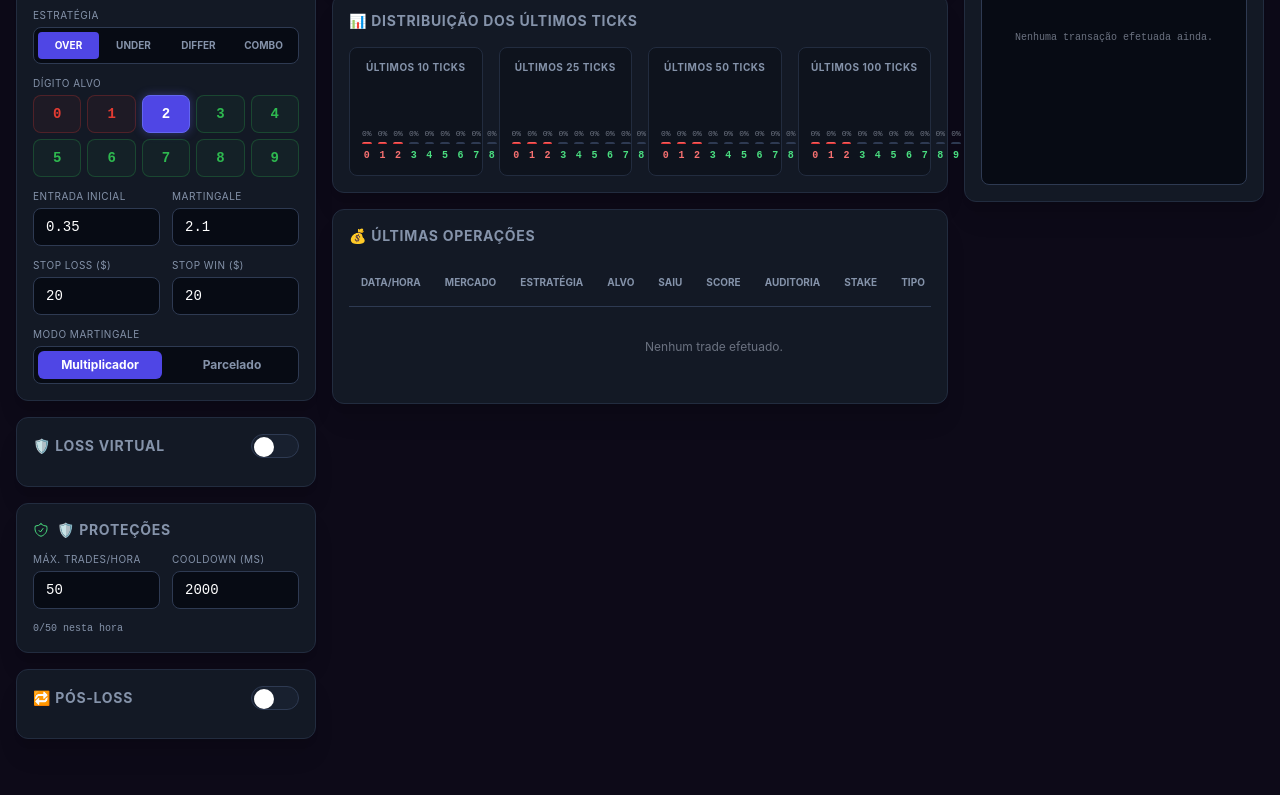
Test: BearBotUltra 2.0 — Bloco Pós-Loss (Card & Funcionalidades) › 9. Manipulação de entradas vazias ou com vírgula nos inputs
The image size is (1280, 795).
(page scrolled)
Click the button without text next to "🔁 PÓS-LOSS" at coordinates (275, 698), box [251,686,299,710]
(page scrolled)
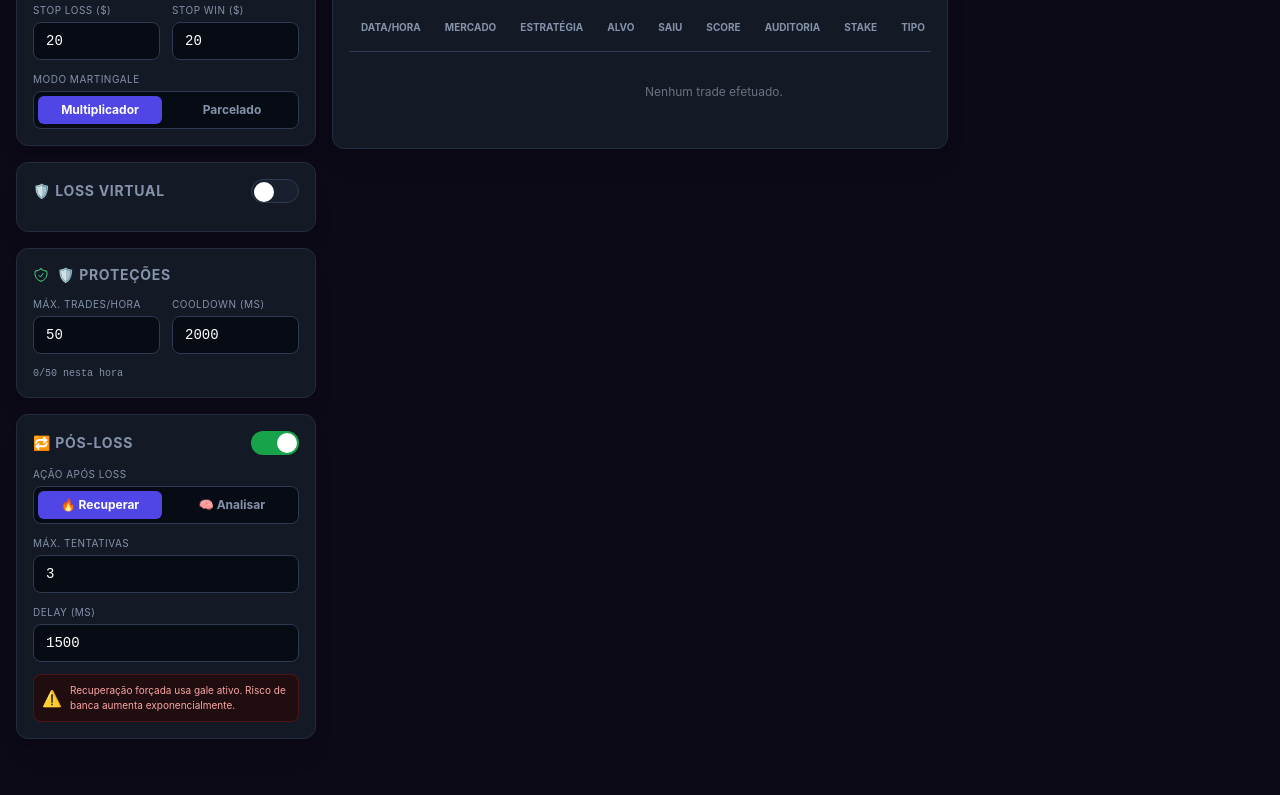
Clear the number field showing "3" below "Máx. tentativas" at coordinates (166, 574), box [33,554,299,592]
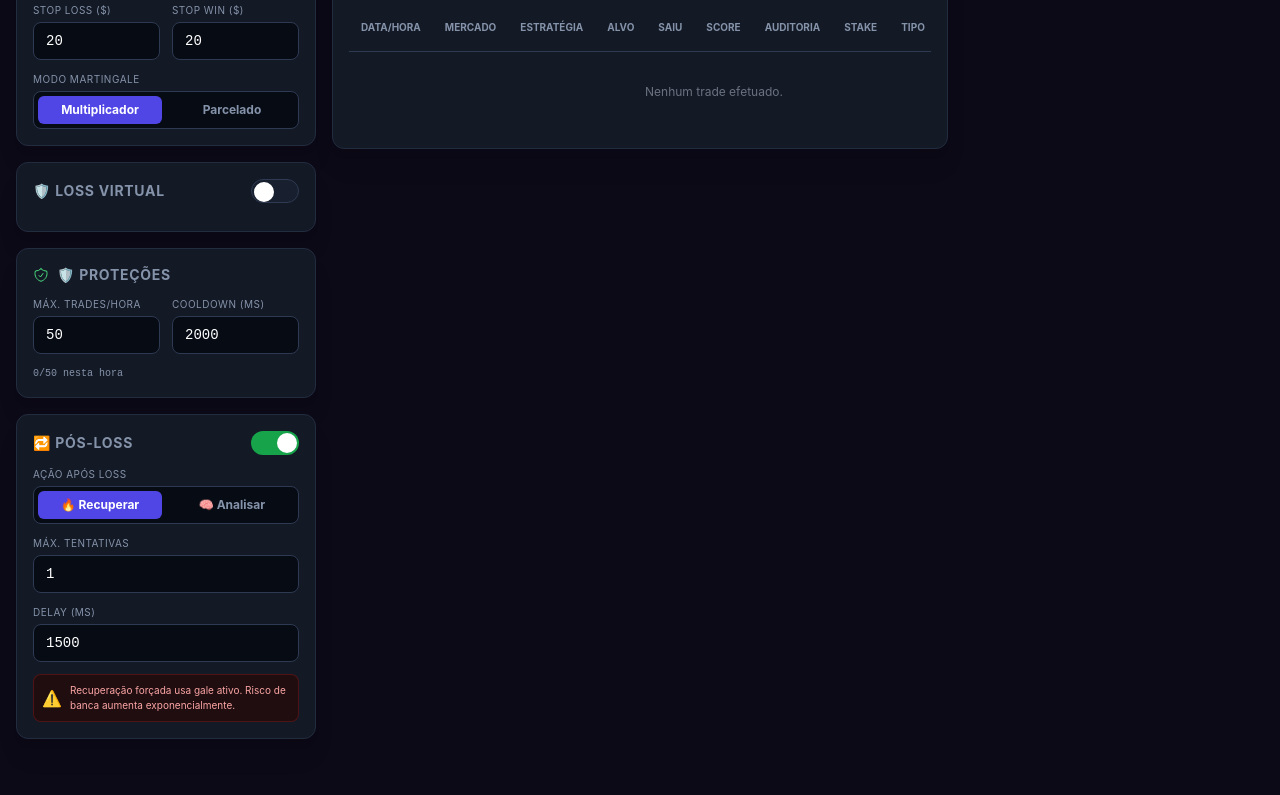
expect the number field showing "3" below "Máx. tentativas" holds "1": met, box [33,554,299,592]
Clear the number field showing "1500" below "Delay (ms)" at coordinates (166, 642), box [33,624,299,662]
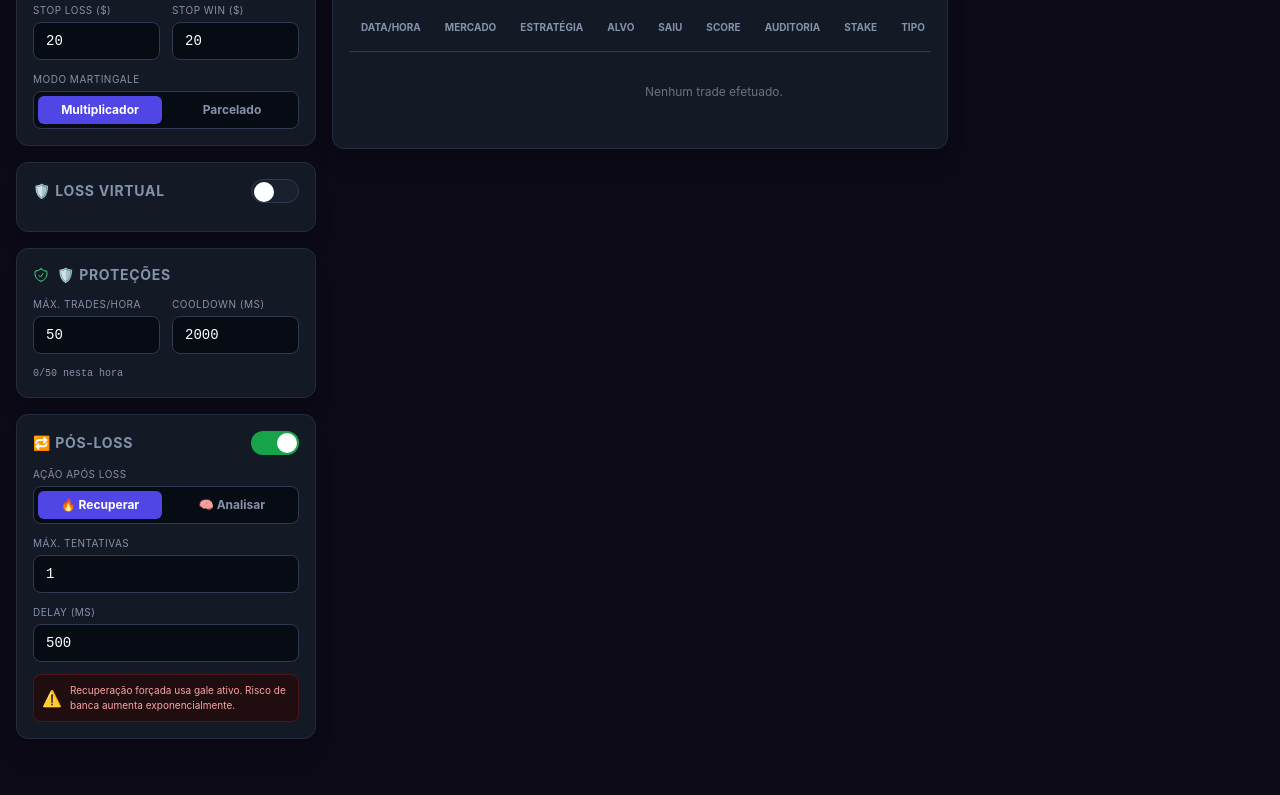
expect the number field showing "1500" below "Delay (ms)" holds "500": met, box [33,624,299,662]
# Mudar para Analisar
Click the button "🧠 Analisar" at coordinates (232, 504), box [170,490,294,518]
(page scrolled)
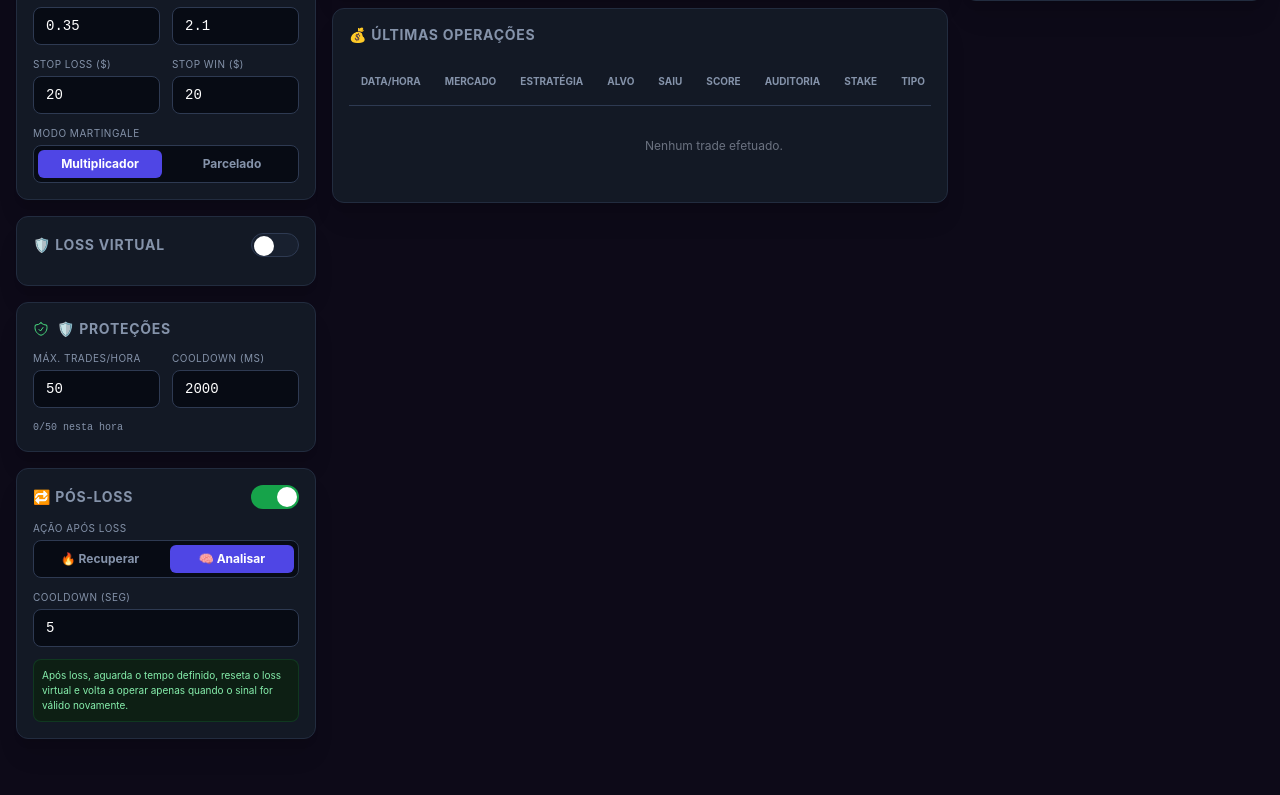
Clear the number field showing "5" below "Cooldown (seg)" at coordinates (166, 628), box [33,608,299,646]
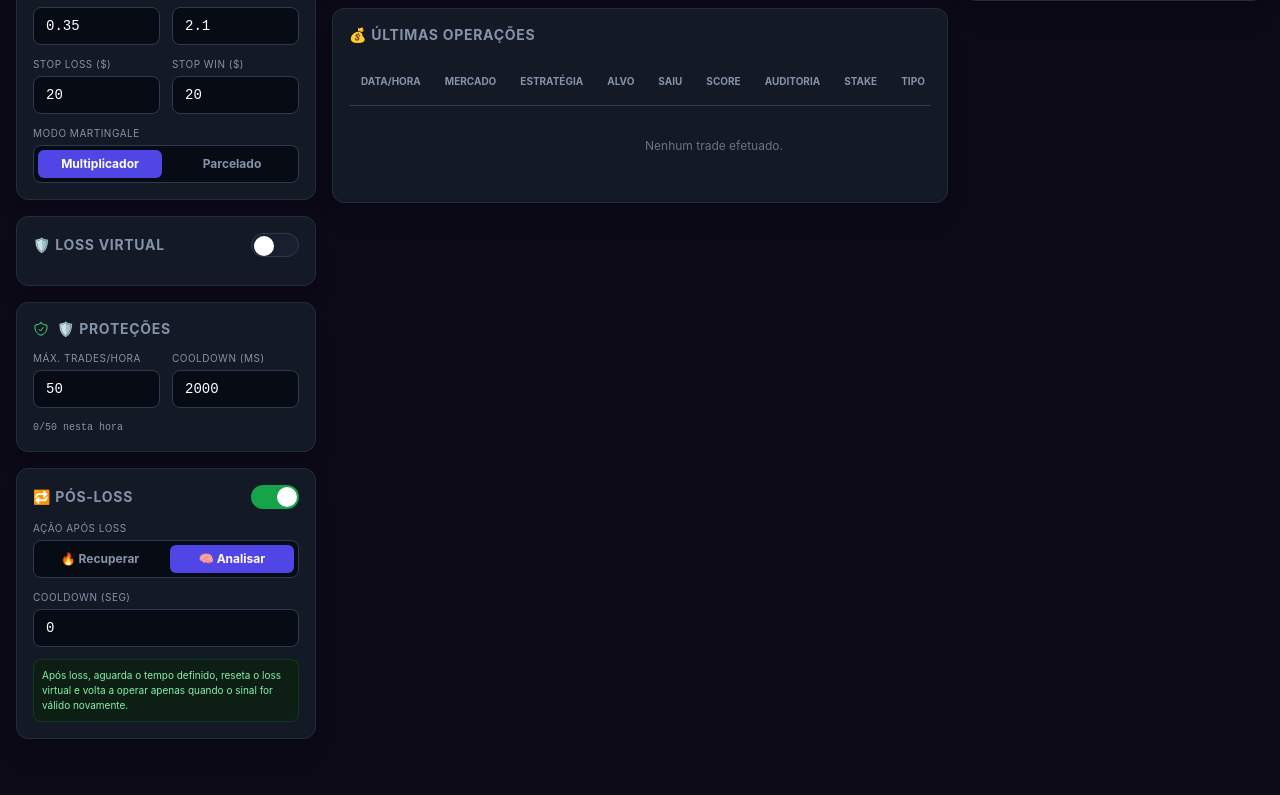
expect the number field showing "5" below "Cooldown (seg)" holds "0": met, box [33,608,299,646]
